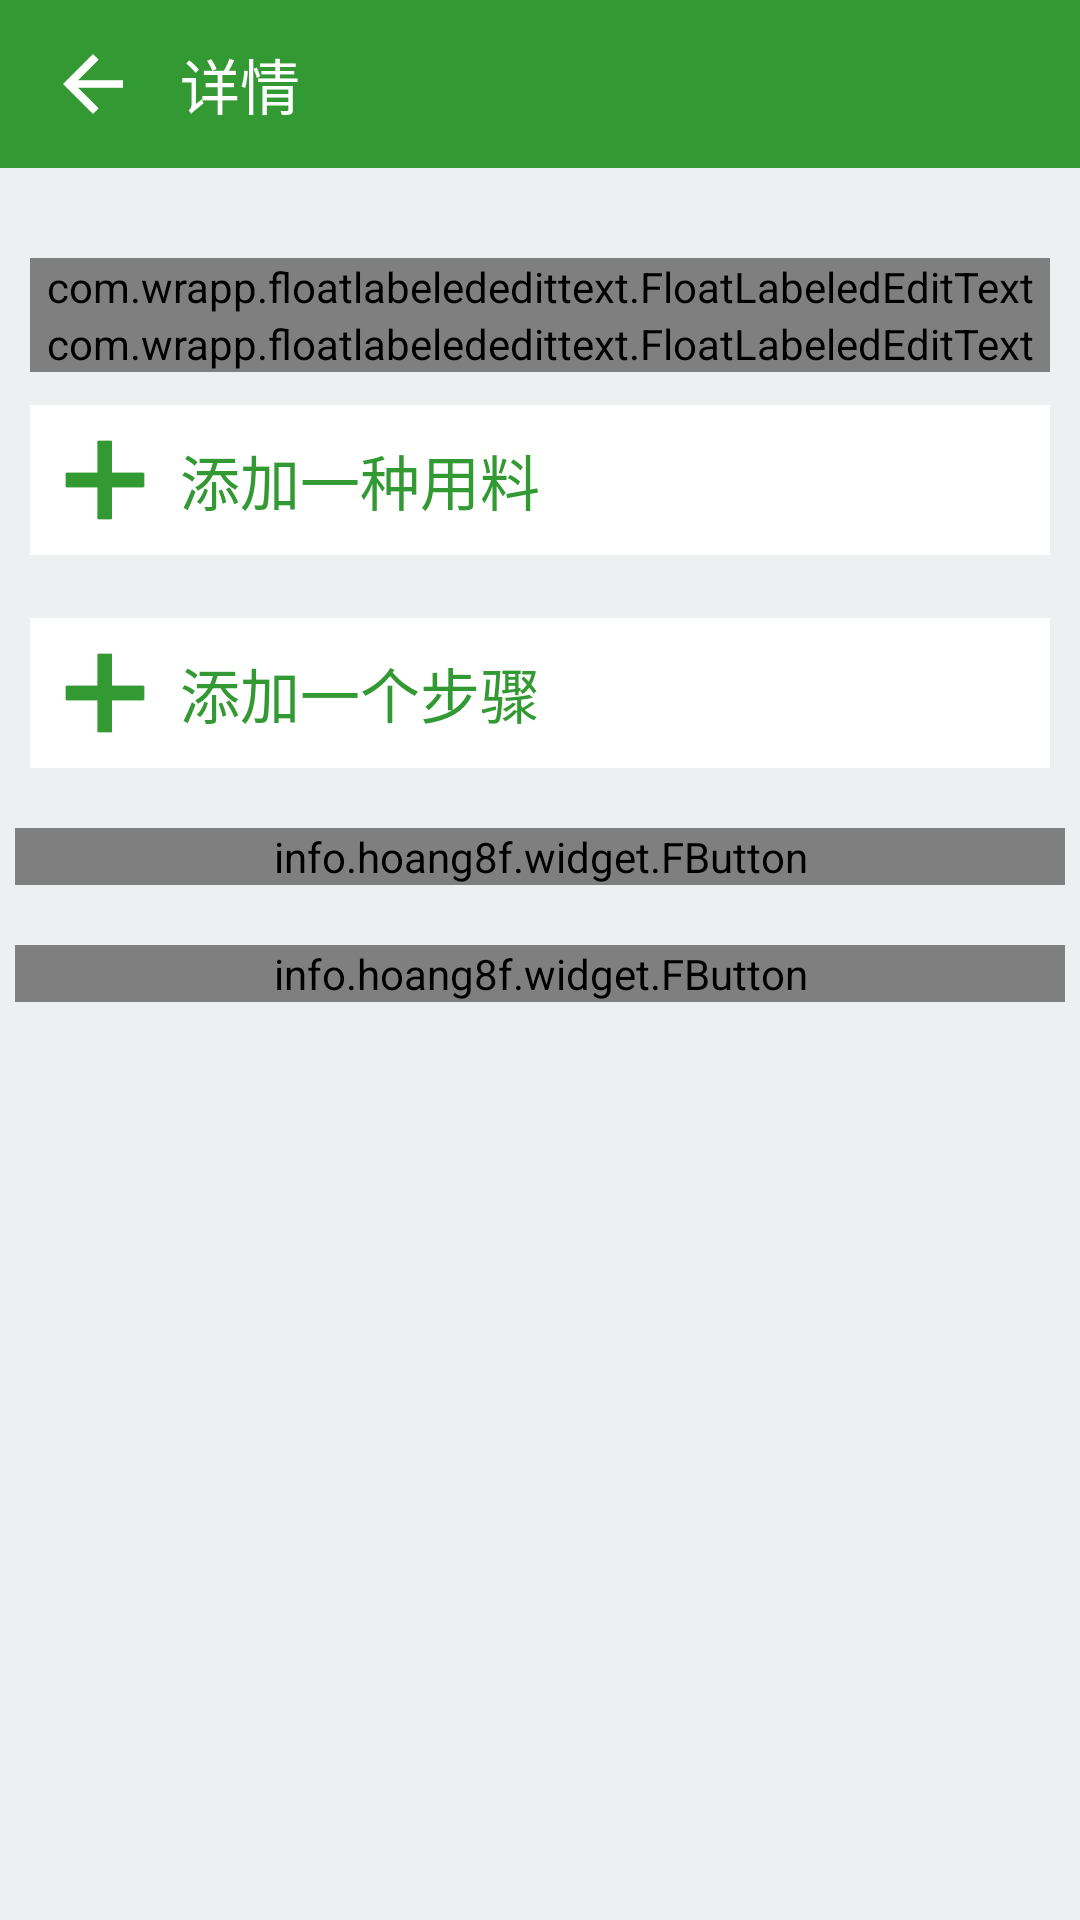

Icon click points for this 1080 x 1920 phone screenshot, format [x,y]:
add: [105,480], [105,693]
back: [93,84]
